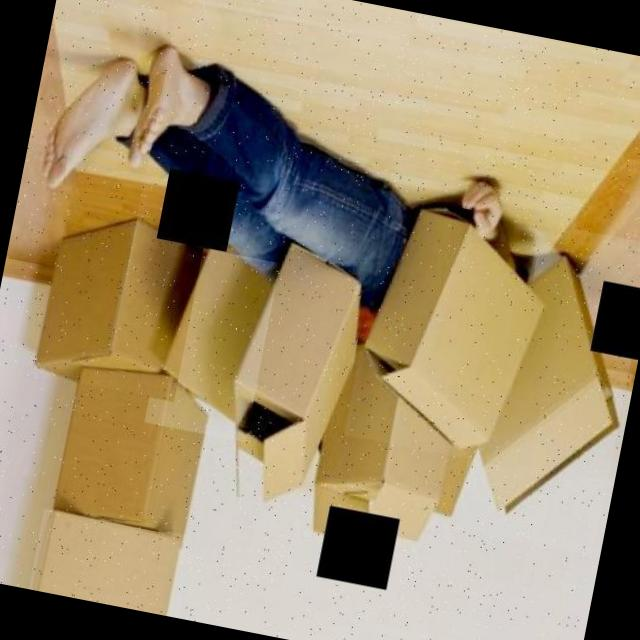box: (344, 162, 582, 471), (453, 217, 640, 558), (193, 211, 374, 533), (302, 306, 472, 568), (33, 342, 228, 540), (30, 196, 208, 402), (144, 243, 280, 442), (29, 508, 193, 618)
